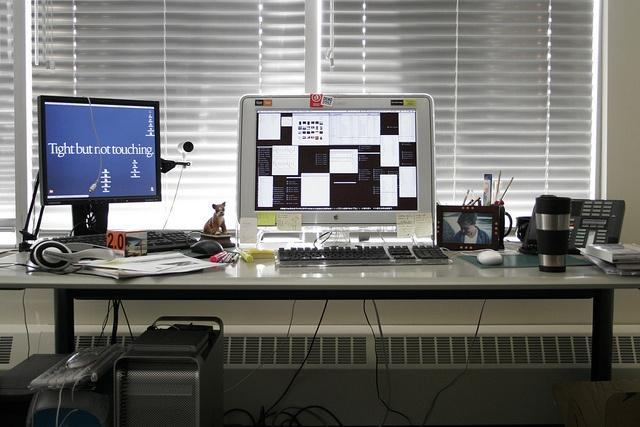AIO PC-Monitor-TV: (236, 92, 436, 228), (37, 94, 160, 206)
